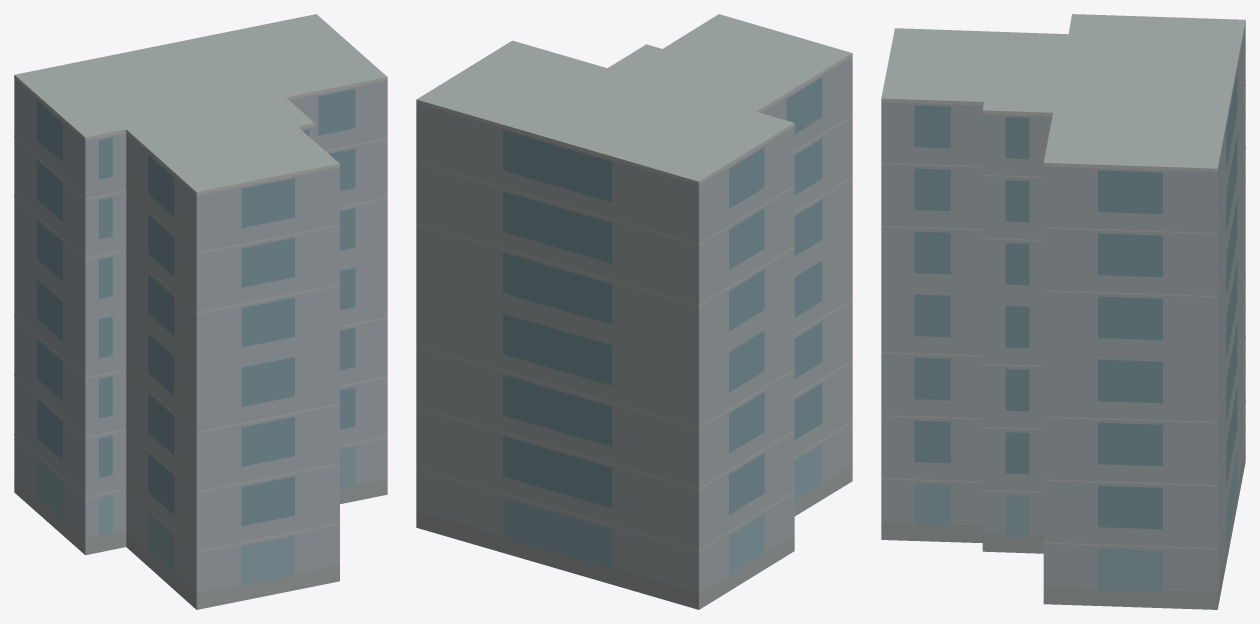
File: survey-upis-32567951.glb
3 views of the same model, side by side, from view 1: azimuth 30°, elevation 25°; view 2: azimuth 150°, elevation 25°; view 3: azimuth 270°, elevation 25° (orthographic). The views are drawn at different scales.
Parts seen in each view (by area): view 1: survey-upis-32567951.tmp; view 2: survey-upis-32567951.tmp; view 3: survey-upis-32567951.tmp.
Boxes of the visible parts, x1,y1,x2,y2 form: survey-upis-32567951.tmp: (14,14,387,609); survey-upis-32567951.tmp: (416,14,852,609); survey-upis-32567951.tmp: (881,14,1245,609).
Size of the model in its own units: 22.13 by 29.4 by 22.04.
